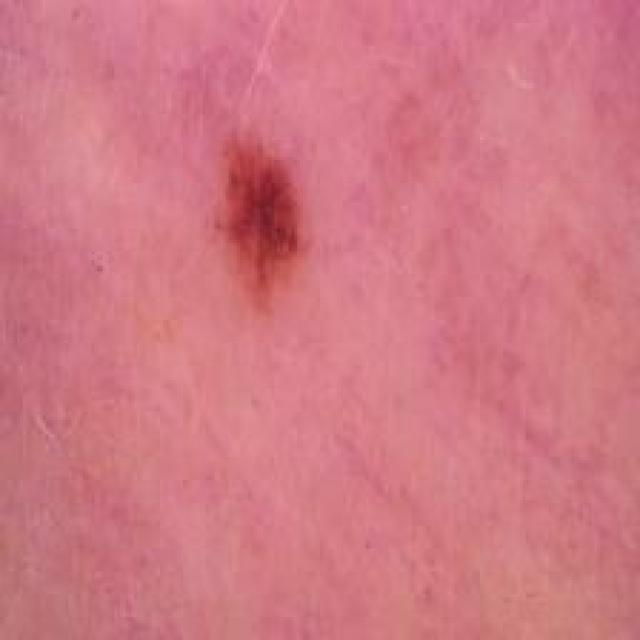Cancer: (197, 124, 316, 320)
